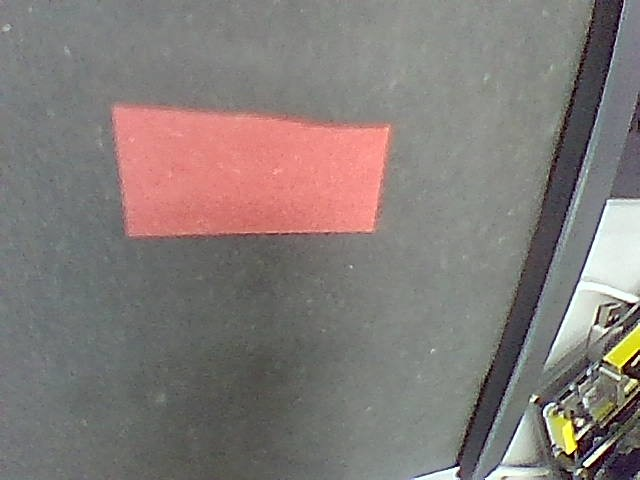card: (113, 104, 388, 235)
